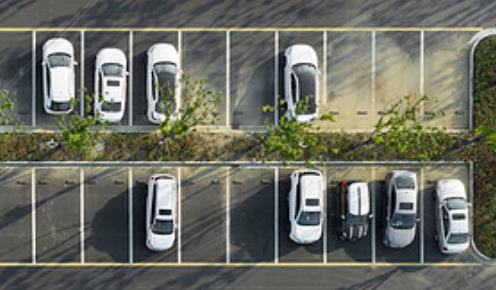car: (279, 43, 322, 123), (39, 34, 79, 117), (432, 177, 472, 256), (382, 166, 420, 248), (144, 41, 180, 126), (288, 167, 326, 246), (89, 45, 127, 122), (145, 173, 180, 251), (339, 178, 373, 243)
